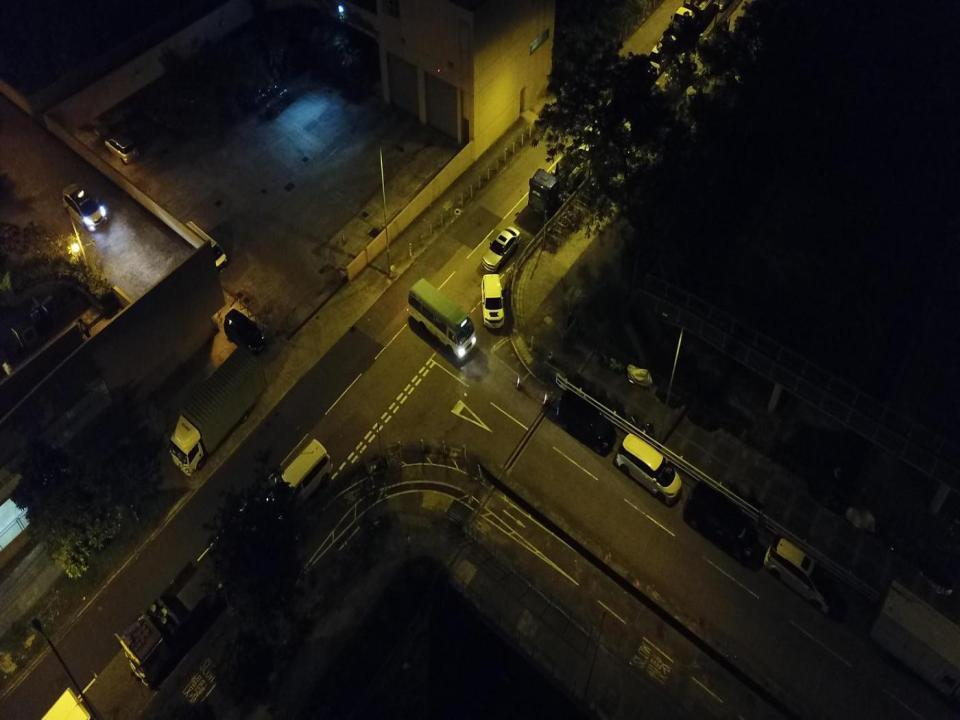bus: (408, 278, 477, 359)
car: (684, 480, 760, 563), (764, 535, 839, 616), (557, 387, 618, 456), (60, 182, 109, 232), (223, 309, 266, 353), (481, 225, 521, 271), (480, 273, 505, 328), (103, 131, 140, 165)
truck: (113, 557, 224, 688), (168, 344, 267, 478), (528, 121, 606, 216)
van: (267, 438, 334, 520), (615, 432, 683, 505)
